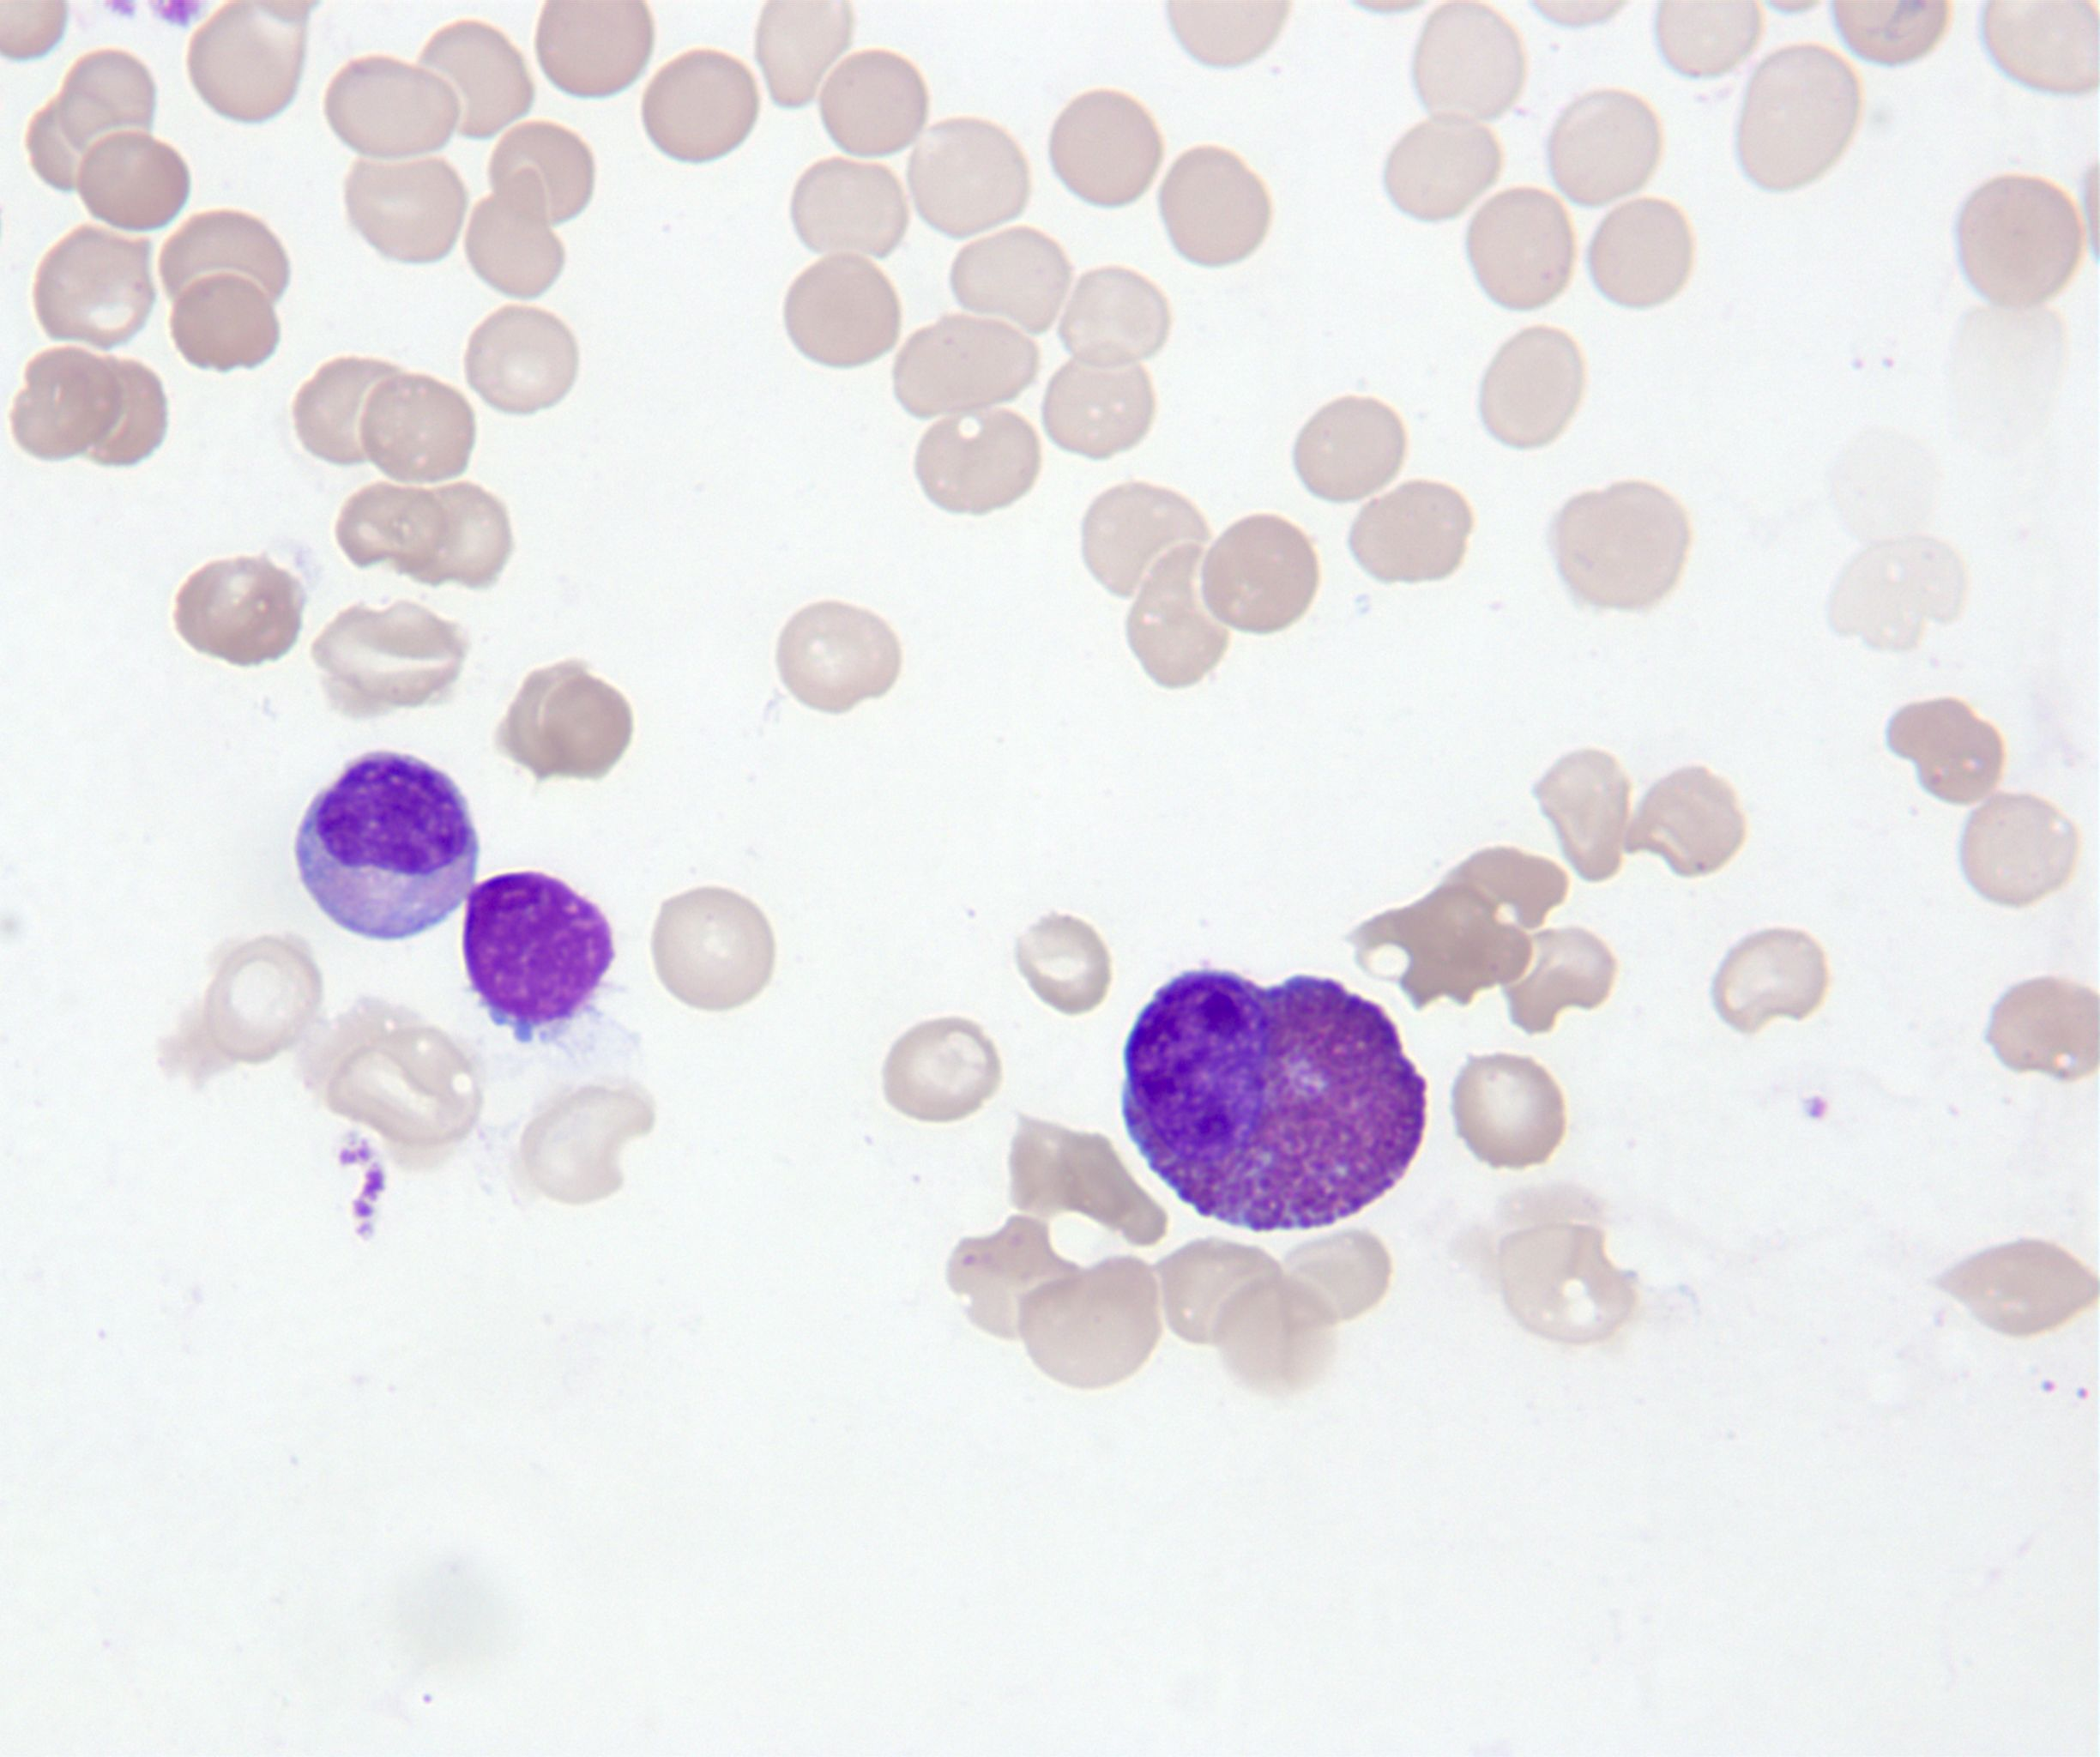3: (295, 750, 478, 940)
E2: (1123, 970, 1425, 1234)
x: (464, 872, 616, 1029)
